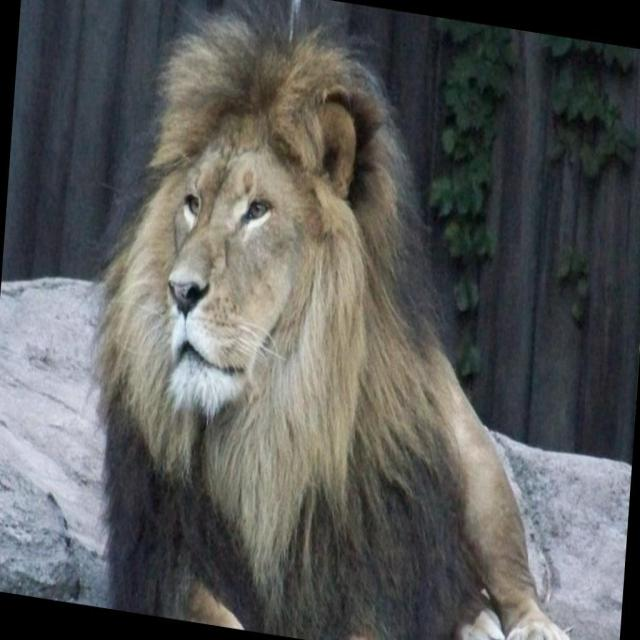Lion: (48, 0, 623, 639)
